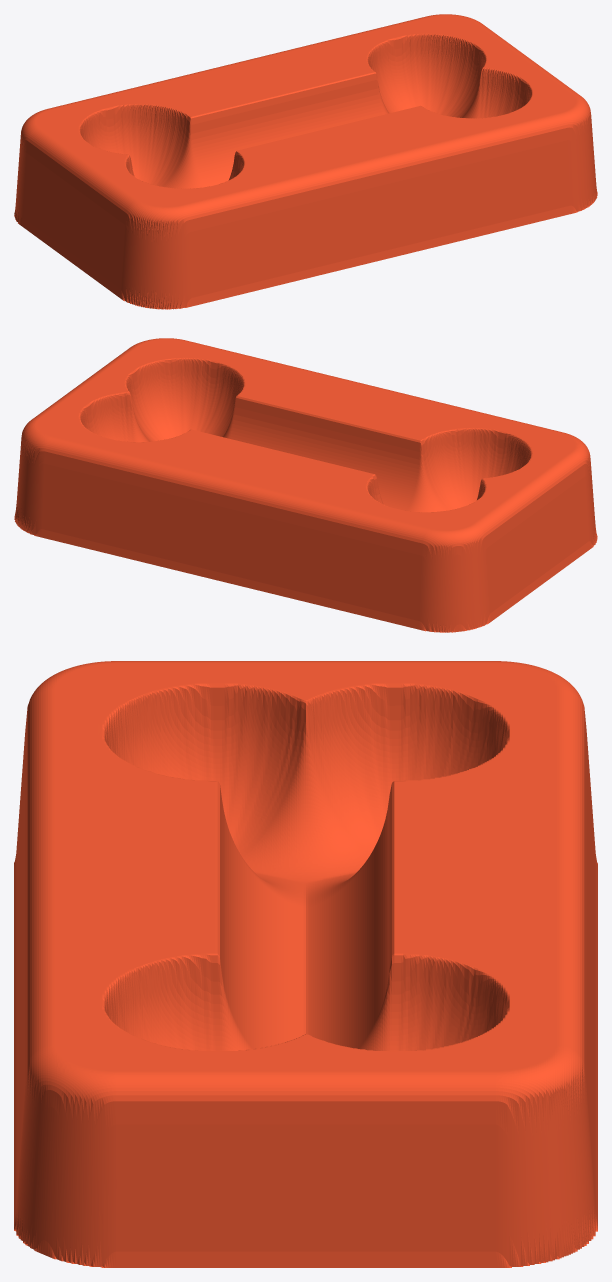
File: mold.glb
3 views of the same model, one above another, from view 1: azimuth 30°, elevation 25°; view 2: azimuth 150°, elevation 25°; view 3: azimuth 270°, elevation 25° (orthographic). The views are drawn at different scales.
Visible parts, largest first — view 1: geometry_0; view 2: geometry_0; view 3: geometry_0.
Boxes of the visible parts, x1=… form: geometry_0: x1=14, y1=14, x2=597, y2=309; geometry_0: x1=14, y1=338, x2=597, y2=632; geometry_0: x1=14, y1=661, x2=597, y2=1267.
Bounding box in the file's own units: 0.0924 × 0.0175 × 0.0516.
